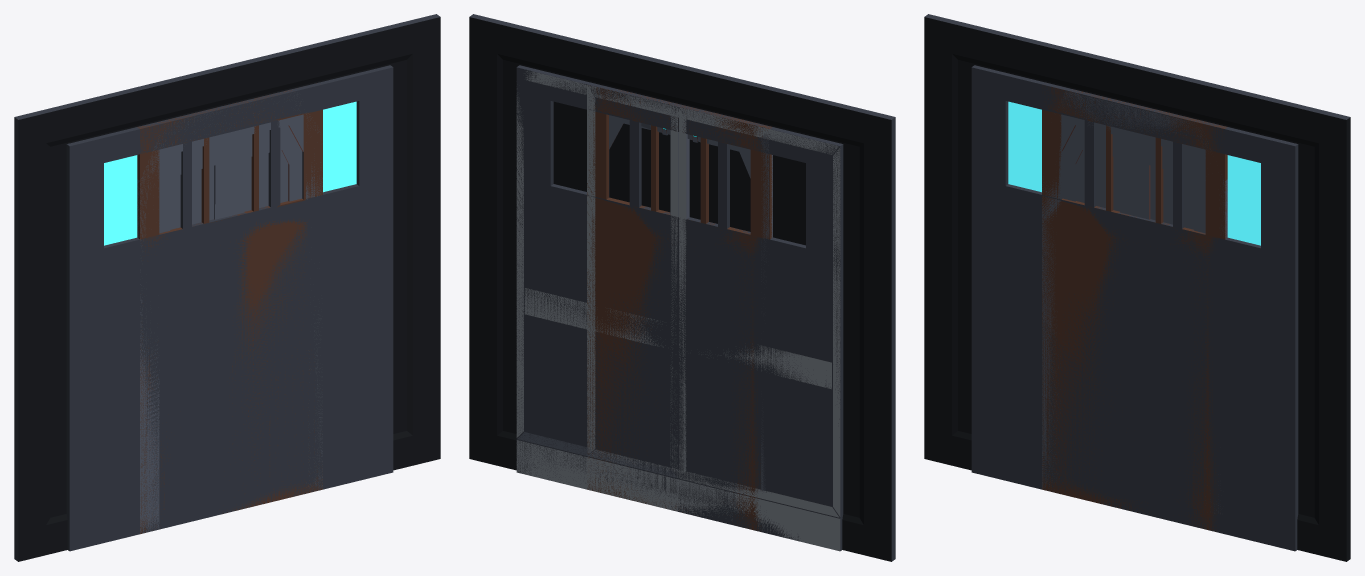
Rendered from door-props.glb.
3 views of the same model, side by side, from view 1: azimuth 30°, elevation 25°; view 2: azimuth 150°, elevation 25°; view 3: azimuth 330°, elevation 25° (orthographic).
Parts seen in each view (by area): view 1: dr-shop, dr-shutter, dr-code, dr-tall; view 2: dr-shop, dr-shutter, dr-steel-double, dr-tall, dr-steel, dr-code; view 3: dr-shop, dr-shutter, dr-tall, dr-code.
Part boxes in pixels (<box>): dr-shop: <box>66,65,393,551</box>; dr-shutter: <box>14,14,440,561</box>; dr-code: <box>137,94,322,533</box>; dr-tall: <box>137,83,322,533</box>; dr-shop: <box>516,65,843,550</box>; dr-shutter: <box>469,14,895,561</box>; dr-steel-double: <box>516,70,840,551</box>; dr-tall: <box>587,85,772,531</box>; dr-steel: <box>587,85,772,519</box>; dr-code: <box>609,102,750,197</box>; dr-shop: <box>971,65,1298,551</box>; dr-shutter: <box>924,14,1350,561</box>; dr-tall: <box>1042,85,1227,531</box>; dr-code: <box>1042,91,1227,513</box>.
Bounding box in the file's own units: 2.4 × 2.4 × 0.08.
1 material, 1 textured.
